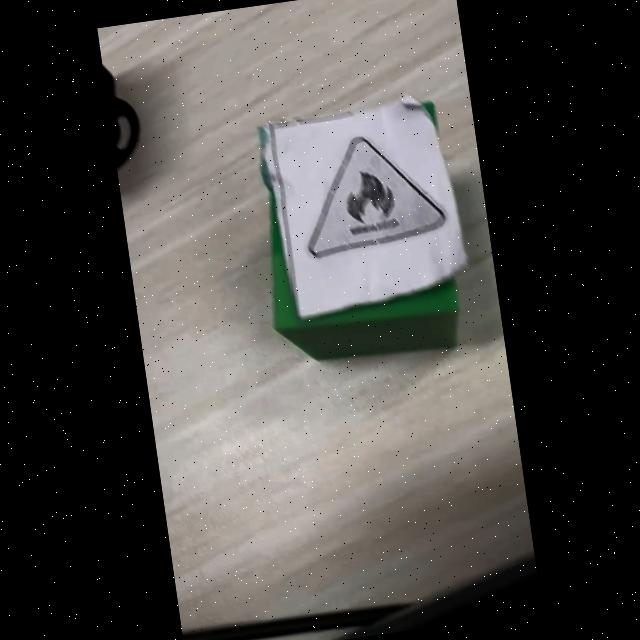Fire: (309, 137, 446, 258)
